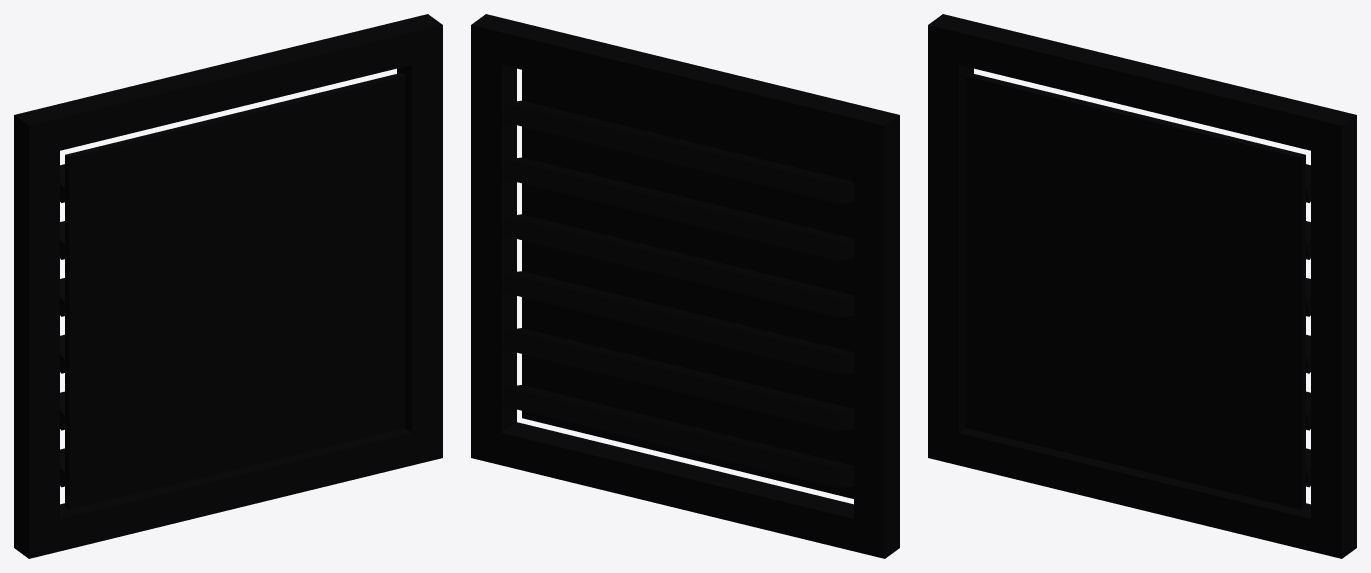
The model's file is lab_vent.obj.
3 views of the same model, side by side, from view 1: azimuth 30°, elevation 25°; view 2: azimuth 150°, elevation 25°; view 3: azimuth 330°, elevation 25° (orthographic).
Size of the model in its own units: 0.875 by 0.875 by 0.0861.
